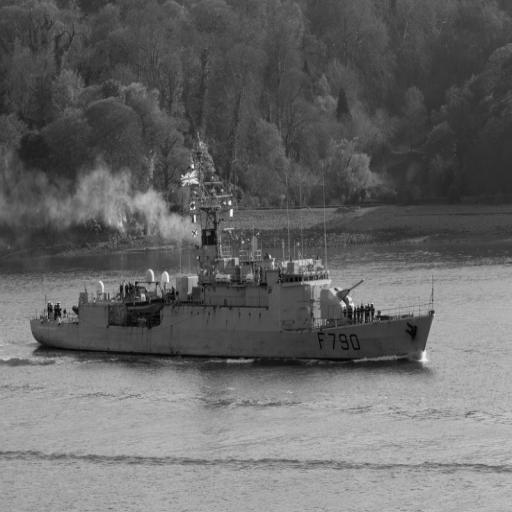Fragata: (27, 135, 438, 368)
